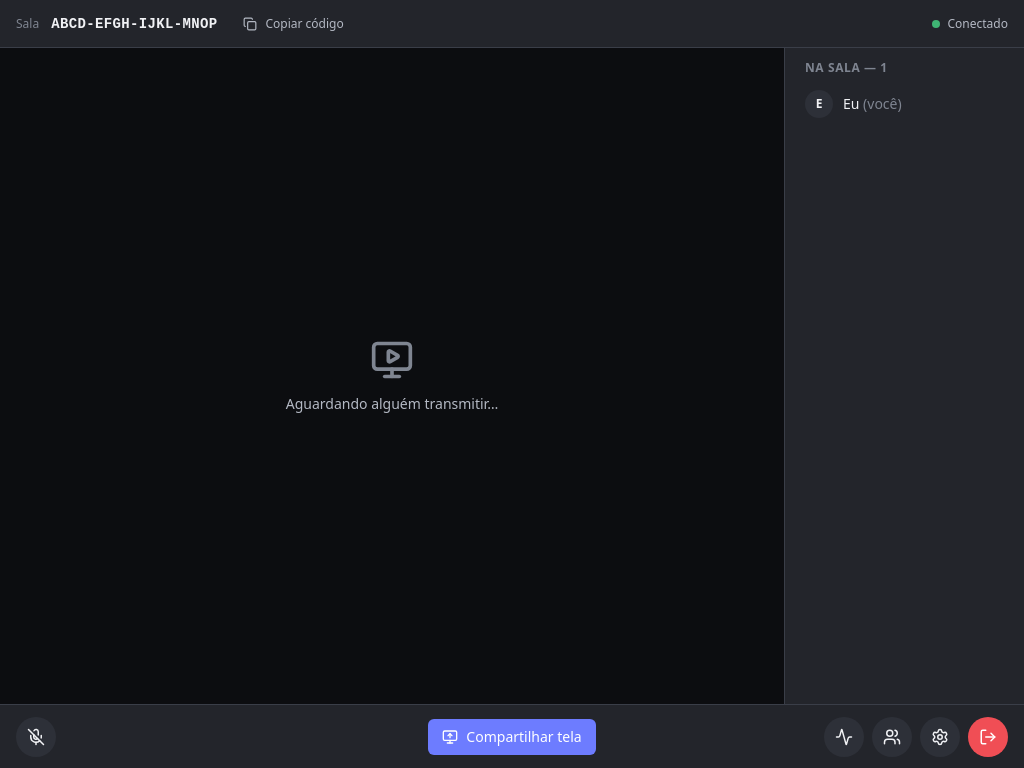
it: tela da sala (transmissor) › janela não tem áudio: sem aviso de eco; mostra quantos assistem
Click the button "Compartilhar tela": x=512, y=736 x1=428 y1=718 x2=596 y2=754
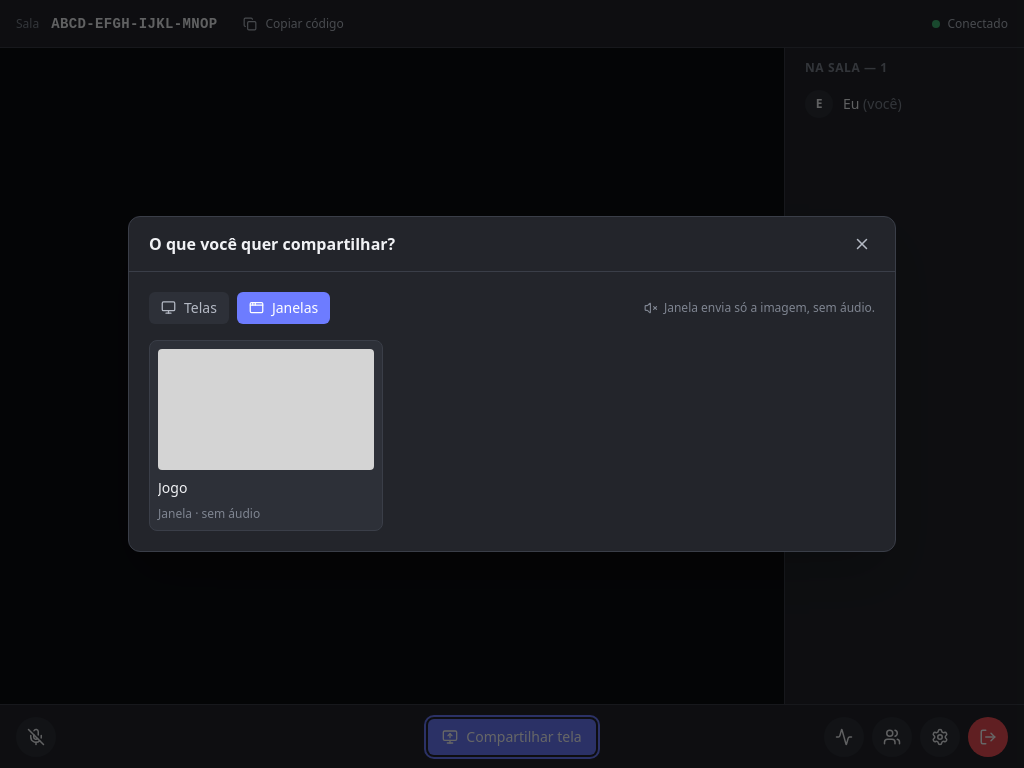
Click the button "Jogo Janela · sem áudio": x=266, y=436 x1=149 y1=340 x2=383 y2=531
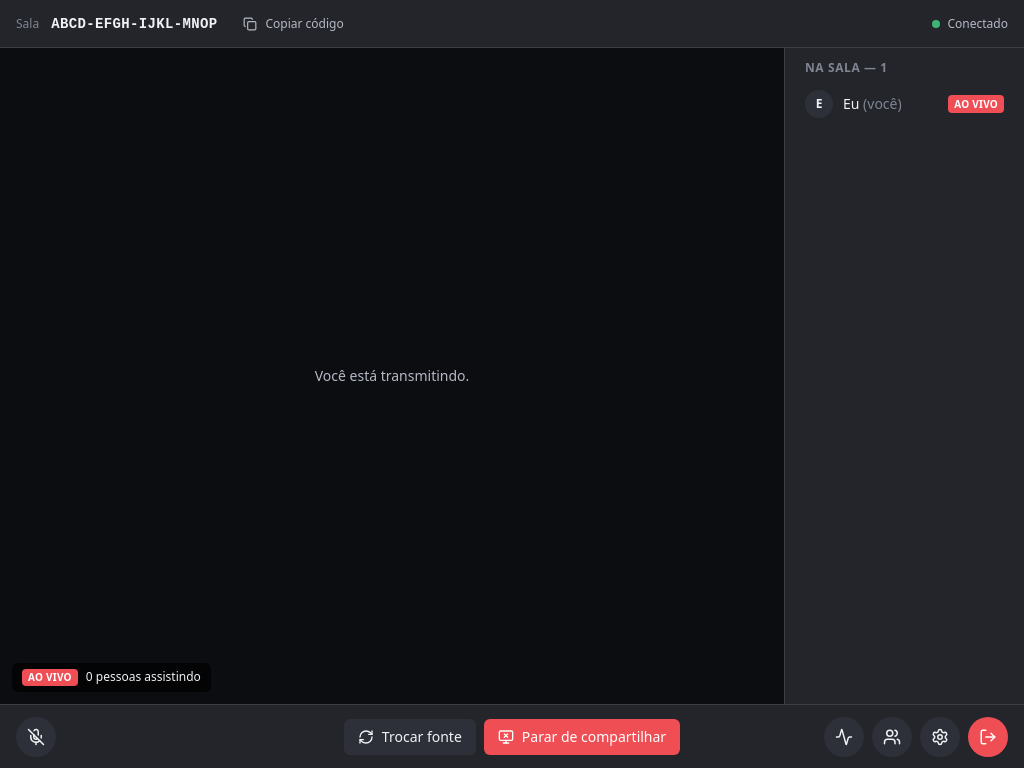
Now the button "Parar de compartilhar" is shown, box x1=484 y1=718 x2=680 y2=754
Now the text with test id "watching" reads "0 pessoas assistindo", box x1=86 y1=668 x2=201 y2=685
